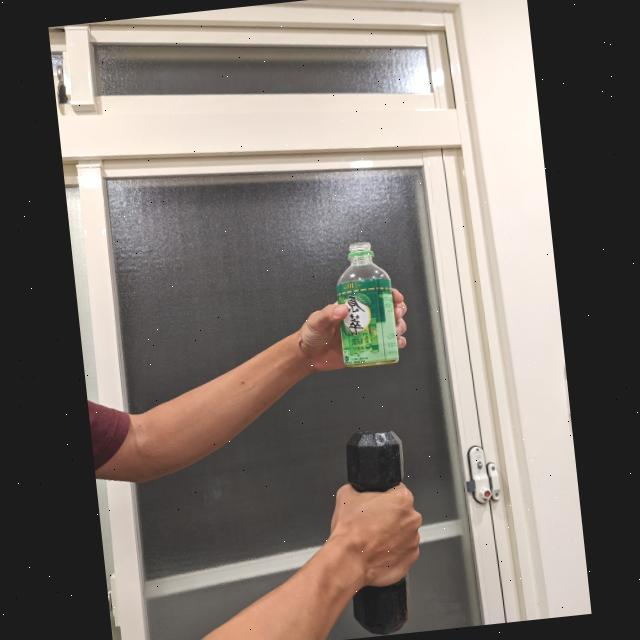trash: (323, 234, 408, 372)
